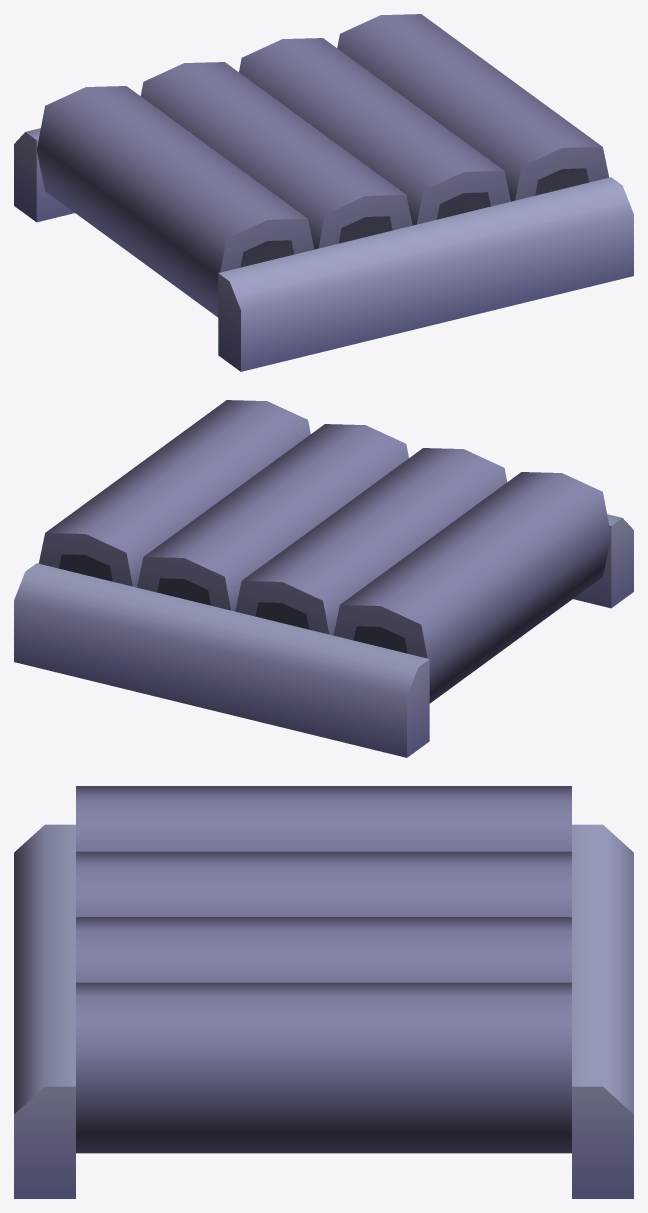
File: kenney-conveyor-conveyor-bars-sides.glb
3 renders of one model, top to bottom at view 1: azimuth 30°, elevation 25°; view 2: azimuth 150°, elevation 25°; view 3: azimuth 270°, elevation 25°, orthographic. The views are drawn at different scales.
Parts seen in each view (by area): view 1: conveyor-bars-sides; view 2: conveyor-bars-sides; view 3: conveyor-bars-sides.
Part boxes in pixels (x1=…): conveyor-bars-sides: x1=14, y1=14, x2=633, y2=371; conveyor-bars-sides: x1=14, y1=400, x2=633, y2=757; conveyor-bars-sides: x1=14, y1=786, x2=633, y2=1198.
Size of the model in its own units: 1 by 0.3 by 1.
1 material, 1 textured.
